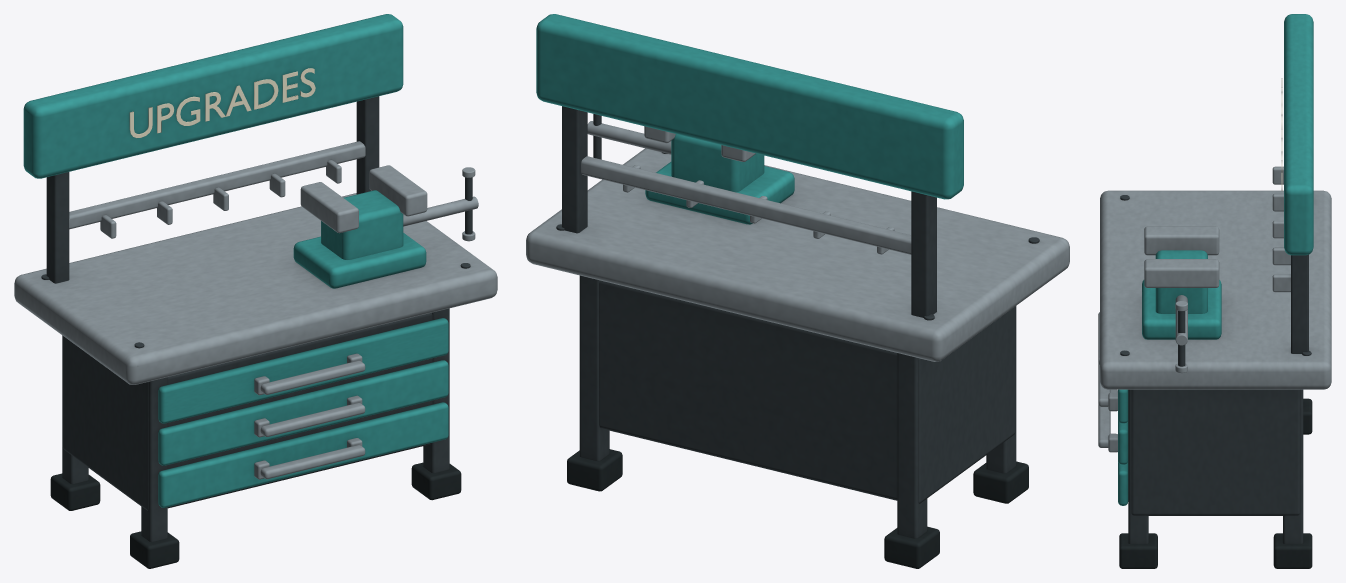
Rendered from UpgradeWorkbench.fbx.
3 renders of one model, left to right at view 1: azimuth 30°, elevation 25°; view 2: azimuth 150°, elevation 25°; view 3: azimuth 270°, elevation 25°, orthographic. The views are drawn at different scales.
Parts seen in each view (by area): view 1: UpgradeWorkbench_Export, ToolDrawer_Export; view 2: UpgradeWorkbench_Export; view 3: UpgradeWorkbench_Export, ToolDrawer_Export.
Boxes of the visible parts, box(x1,y1,x2,y2) form: UpgradeWorkbench_Export: box(14, 14, 497, 568); ToolDrawer_Export: box(158, 318, 448, 423); UpgradeWorkbench_Export: box(526, 14, 1069, 568); UpgradeWorkbench_Export: box(1098, 14, 1331, 568); ToolDrawer_Export: box(1098, 312, 1128, 423).
Bounding box in the file's own units: 192 × 192 × 103.
Materials: 1 (1 with a texture image).
